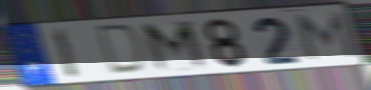2: (250, 13, 307, 68)
8: (202, 18, 248, 70)
D: (96, 22, 149, 77)
I: (51, 26, 84, 80)
M: (139, 18, 214, 75), (292, 10, 360, 62)
